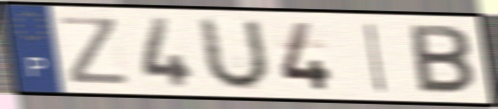4: (139, 15, 197, 90), (278, 19, 334, 93)
B: (407, 22, 478, 97)
I: (363, 19, 389, 95)
U: (198, 14, 272, 93)
Z: (56, 14, 134, 87)
